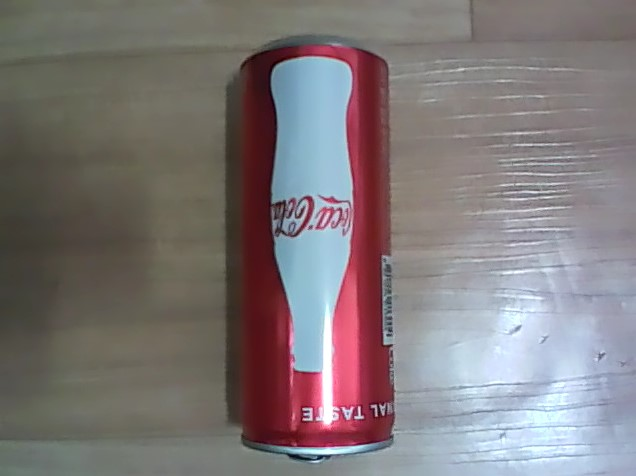Can: (219, 27, 399, 468)
